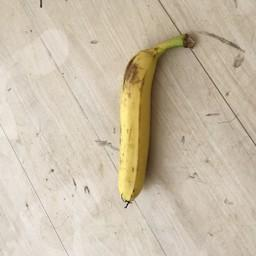Banana Ripe: (98, 25, 195, 231)
